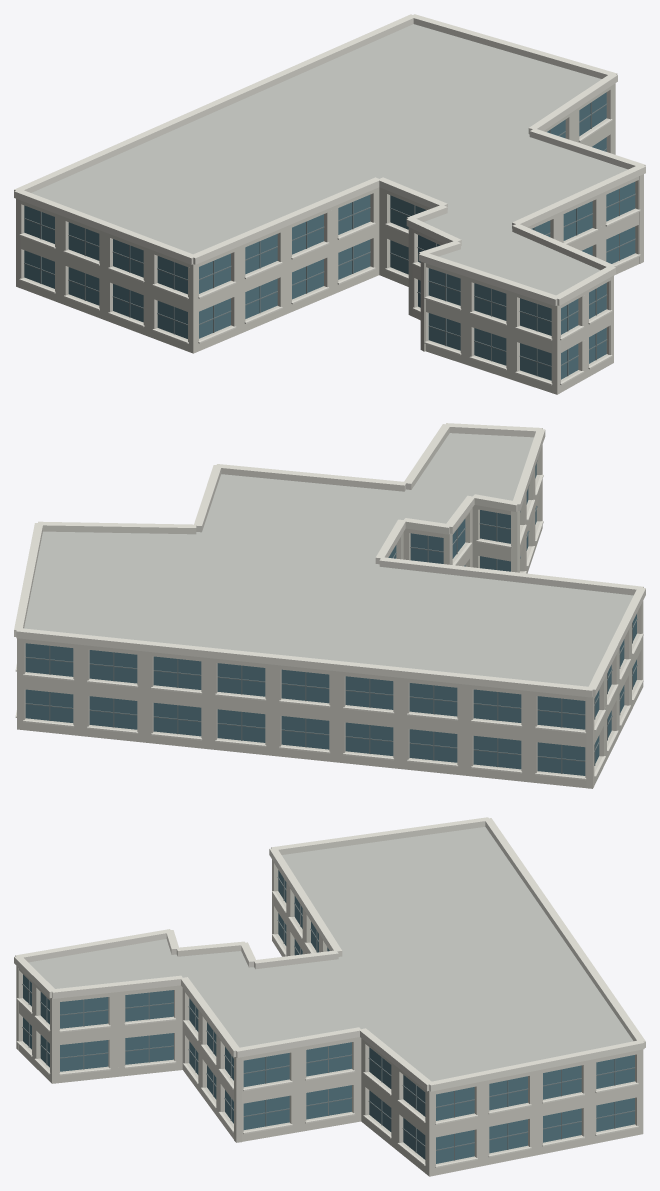
3 renders of one model, top to bottom at view 1: azimuth 30°, elevation 25°; view 2: azimuth 150°, elevation 25°; view 3: azimuth 270°, elevation 25°, orthographic. The views are drawn at different scales.
Parts seen in each view (by area): view 1: roof, wall, glass, trim, metal; view 2: roof, wall, glass, trim, metal; view 3: roof, wall, glass, trim, metal.
Part boxes in pixels (x1,y1,x2,y2): roof: (31,24,627,295); wall: (16,83,643,394); glass: (24,92,635,380); trim: (14,14,645,385); metal: (24,102,635,376); roof: (24,433,633,686); wall: (17,445,643,788); glass: (25,464,636,775); trim: (14,423,645,780); metal: (25,460,637,773); roof: (28,827,633,1081); wall: (16,859,643,1176); glass: (23,870,634,1163); trim: (14,817,645,1167); metal: (22,877,635,1160).
Bounding box in the file's own units: 40.16 × 6.44 × 39.97.
